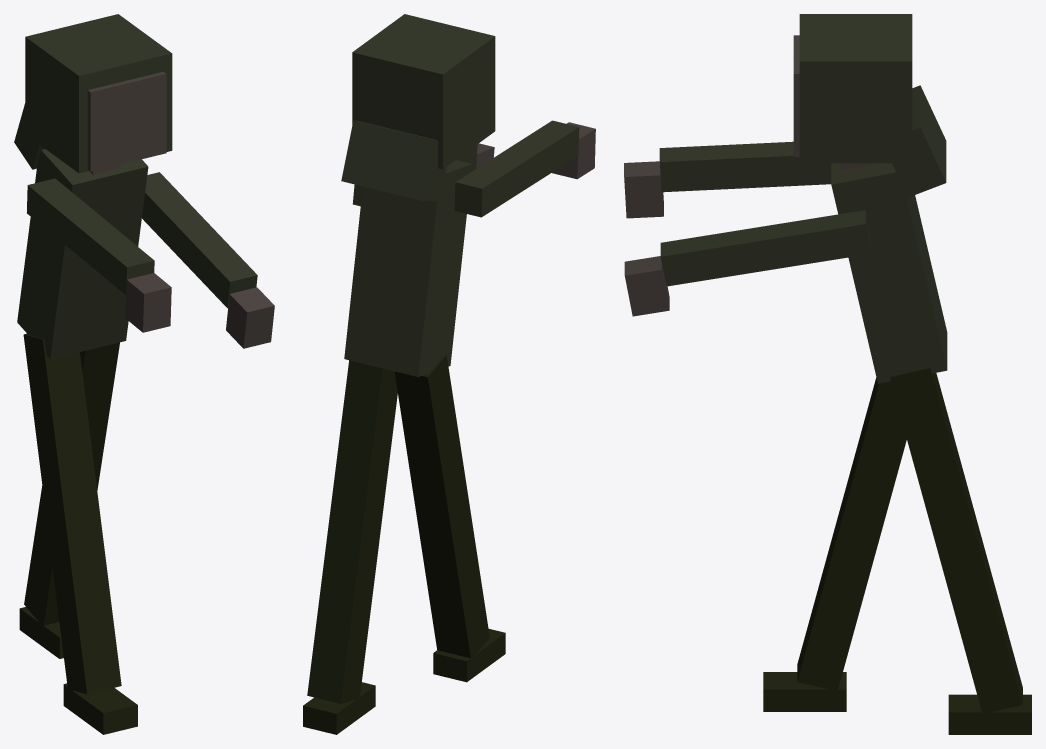
File: SM_ZombiFino_v8_Capucha_LOD0.fbx
3 renders of one model, left to right at view 1: azimuth 30°, elevation 25°; view 2: azimuth 150°, elevation 25°; view 3: azimuth 270°, elevation 25°, orthographic. The views are drawn at different scales.
Visible parts, largest first — view 1: SM_zombi_fino_v8_LOD0; view 2: SM_zombi_fino_v8_LOD0; view 3: SM_zombi_fino_v8_LOD0.
Part boxes in pixels (<box>): SM_zombi_fino_v8_LOD0: <box>14,14,274,734</box>; SM_zombi_fino_v8_LOD0: <box>303,14,595,734</box>; SM_zombi_fino_v8_LOD0: <box>624,14,1031,734</box>.
Bounding box in the file's own units: 0.38 × 1.79 × 0.9796.
